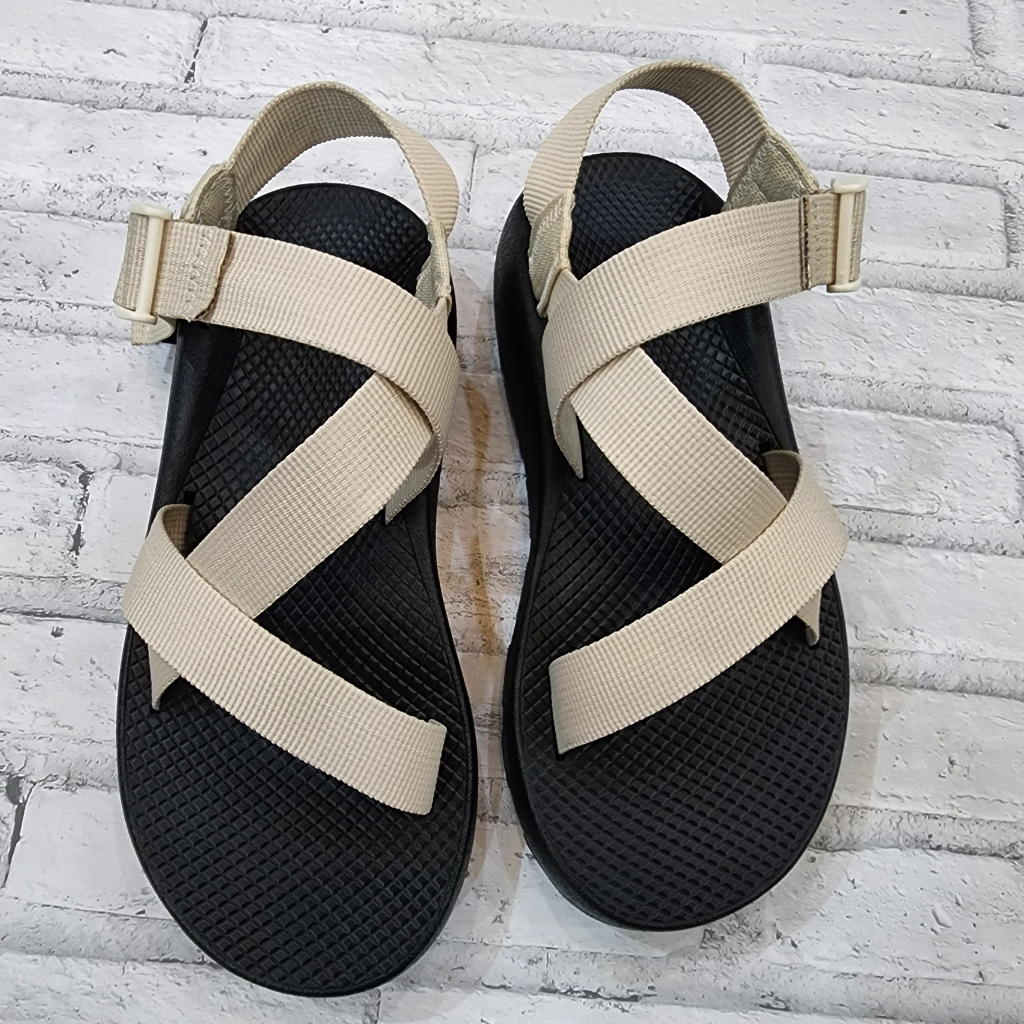sandals: (108, 77, 483, 999), (494, 61, 875, 934)
